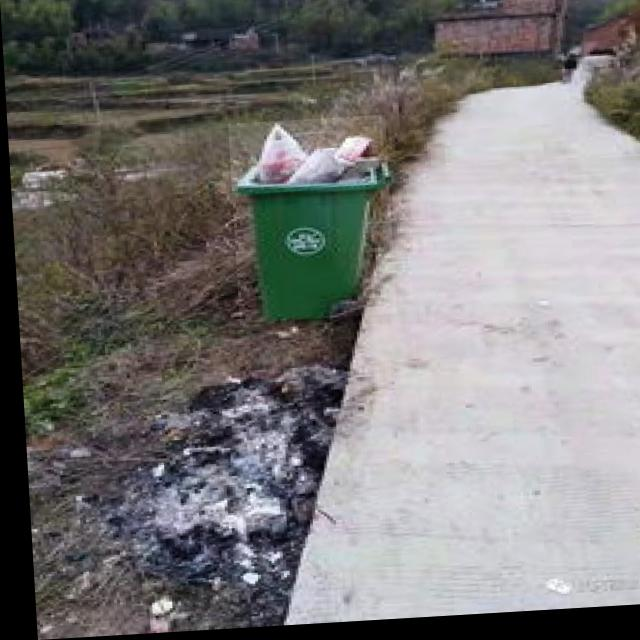overflow: (227, 119, 393, 326)
